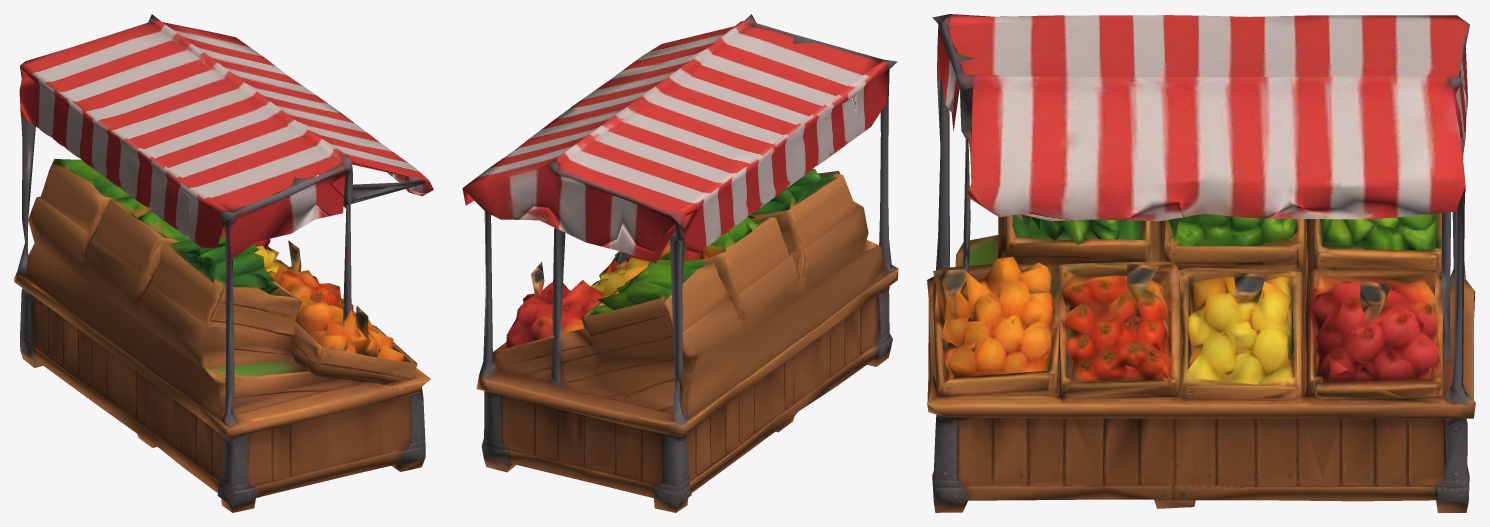
The model's file is st_fruit.glb.
The picture shows the model from 3 angles, left to right: view 1: azimuth 30°, elevation 25°; view 2: azimuth 150°, elevation 25°; view 3: azimuth 270°, elevation 25°; orthographic projection. The views are drawn at different scales.
Visible parts, largest first — view 1: tripo_node_02b7d9de-eb7b-4ca8-b3b8-b99d1c27fa93; view 2: tripo_node_02b7d9de-eb7b-4ca8-b3b8-b99d1c27fa93; view 3: tripo_node_02b7d9de-eb7b-4ca8-b3b8-b99d1c27fa93.
Boxes of the visible parts, box(x1,y1,x2,y2) form: tripo_node_02b7d9de-eb7b-4ca8-b3b8-b99d1c27fa93: box(14, 14, 433, 512); tripo_node_02b7d9de-eb7b-4ca8-b3b8-b99d1c27fa93: box(462, 14, 898, 512); tripo_node_02b7d9de-eb7b-4ca8-b3b8-b99d1c27fa93: box(927, 14, 1475, 512).
Bounding box in the file's own units: 0.5942 × 0.8079 × 1.
1 material, 1 textured.
